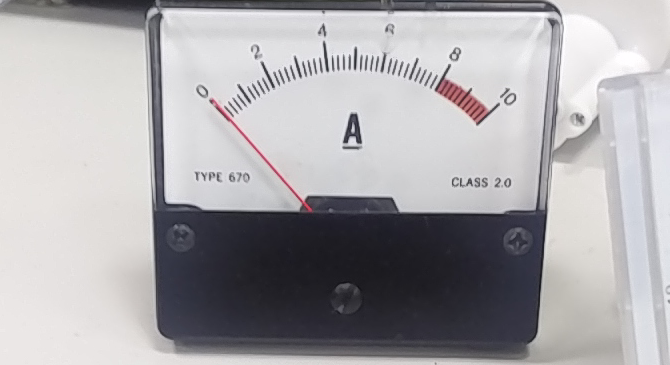Amp_Meter: (148, 4, 557, 223)
